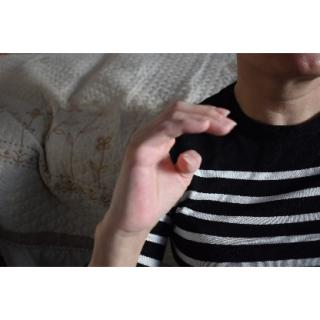JEEM: (98, 95, 240, 240)
